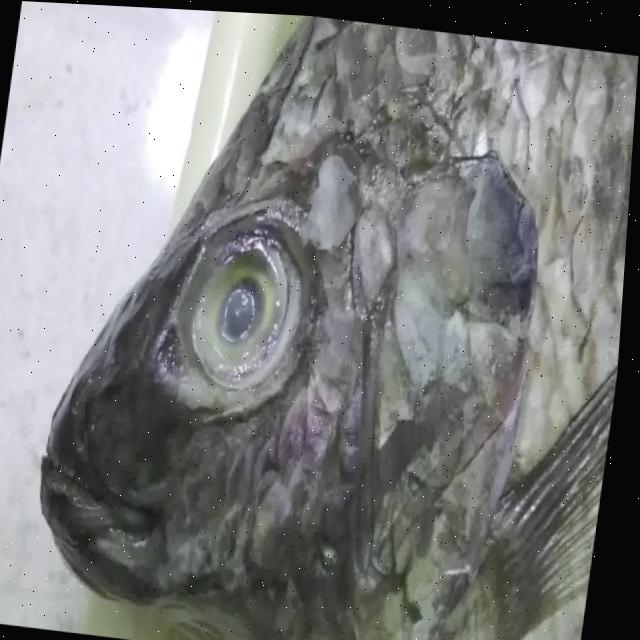Non-Fresh: (168, 189, 316, 414)
